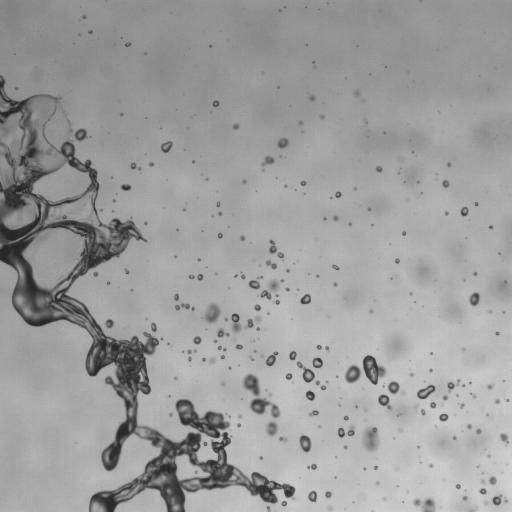droplet: (344, 355, 386, 385), (231, 313, 261, 332), (362, 426, 379, 451), (203, 303, 220, 323), (413, 498, 435, 511), (386, 381, 405, 395), (417, 385, 435, 399), (299, 434, 311, 452), (378, 394, 391, 409), (338, 425, 354, 437), (265, 351, 278, 365), (266, 421, 277, 436), (261, 156, 274, 168), (249, 276, 261, 289), (469, 292, 479, 306), (161, 141, 172, 152), (277, 138, 288, 148), (312, 357, 322, 368), (217, 328, 229, 337), (300, 294, 310, 304), (492, 495, 502, 505), (265, 260, 276, 269), (187, 349, 196, 360), (308, 490, 317, 501), (305, 390, 314, 400), (500, 433, 508, 444), (460, 206, 468, 216), (105, 319, 113, 328), (439, 413, 448, 421), (488, 476, 496, 485), (193, 336, 201, 344), (289, 351, 296, 360), (121, 184, 130, 190), (309, 410, 318, 416), (442, 180, 449, 187), (279, 436, 287, 442), (151, 322, 156, 331), (307, 464, 316, 469), (212, 100, 219, 106), (232, 123, 239, 129), (196, 274, 203, 280), (285, 373, 292, 379), (479, 488, 486, 494), (325, 491, 331, 498), (309, 95, 315, 101), (376, 166, 382, 172), (335, 191, 341, 197), (273, 298, 279, 304), (254, 304, 260, 310), (209, 357, 215, 363), (430, 402, 436, 408), (332, 264, 339, 269), (300, 181, 306, 186), (236, 344, 242, 349), (174, 293, 178, 300), (354, 91, 359, 96), (40, 111, 45, 116), (240, 235, 245, 240), (124, 269, 129, 274), (315, 380, 320, 385), (487, 384, 492, 389), (495, 399, 500, 404), (459, 403, 464, 408), (476, 429, 481, 434), (421, 409, 425, 415), (125, 42, 130, 46), (333, 216, 338, 220), (218, 233, 222, 238), (395, 258, 399, 263), (93, 272, 98, 276), (241, 273, 245, 278), (189, 274, 193, 279), (316, 345, 321, 349), (325, 346, 329, 351), (320, 385, 325, 389), (471, 393, 475, 398), (442, 395, 447, 399), (456, 484, 460, 489), (462, 496, 467, 500), (281, 501, 286, 505), (266, 506, 270, 511), (320, 115, 324, 119), (149, 162, 153, 166), (216, 202, 220, 206), (333, 282, 337, 286), (369, 309, 373, 313), (495, 331, 499, 335), (220, 355, 224, 359), (249, 356, 253, 360), (414, 404, 418, 408), (344, 416, 348, 420), (467, 424, 471, 428), (481, 479, 485, 483), (328, 506, 332, 510), (88, 30, 92, 33), (299, 121, 302, 125), (242, 180, 246, 183), (169, 412, 172, 416), (343, 445, 347, 448), (429, 464, 433, 467), (82, 15, 85, 18), (447, 163, 450, 166), (445, 211, 448, 214), (218, 212, 221, 215), (489, 225, 492, 228), (285, 288, 288, 291), (488, 310, 491, 313), (202, 358, 205, 361), (238, 415, 241, 418), (374, 466, 377, 469), (383, 497, 385, 501), (505, 498, 507, 502), (354, 187, 356, 190), (112, 199, 115, 201), (144, 222, 147, 224), (402, 232, 405, 234), (198, 258, 200, 261), (474, 272, 476, 275), (256, 327, 259, 329), (214, 339, 216, 342), (429, 369, 432, 371), (410, 373, 412, 376), (506, 399, 509, 401), (237, 424, 240, 426), (399, 428, 401, 431), (453, 436, 455, 439), (376, 482, 379, 484), (15, 87, 17, 89), (475, 203, 477, 205), (286, 269, 288, 271), (225, 318, 227, 320), (167, 342, 169, 344), (462, 348, 464, 350), (175, 377, 177, 379), (326, 380, 328, 382), (222, 383, 224, 385), (269, 394, 271, 396), (439, 403, 441, 405), (227, 415, 229, 417), (486, 414, 488, 416), (487, 455, 489, 457), (484, 502, 486, 504)
ligament: (0, 75, 293, 511), (242, 373, 280, 418), (259, 279, 283, 299), (67, 120, 88, 141), (297, 362, 314, 382), (269, 240, 283, 259), (447, 380, 460, 391), (175, 303, 193, 310), (130, 163, 140, 170), (467, 506, 476, 511), (218, 346, 225, 350)
